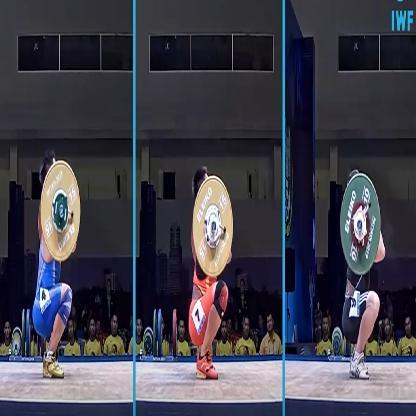barbell: (38, 160, 81, 262), (339, 173, 381, 275), (194, 175, 234, 276)
